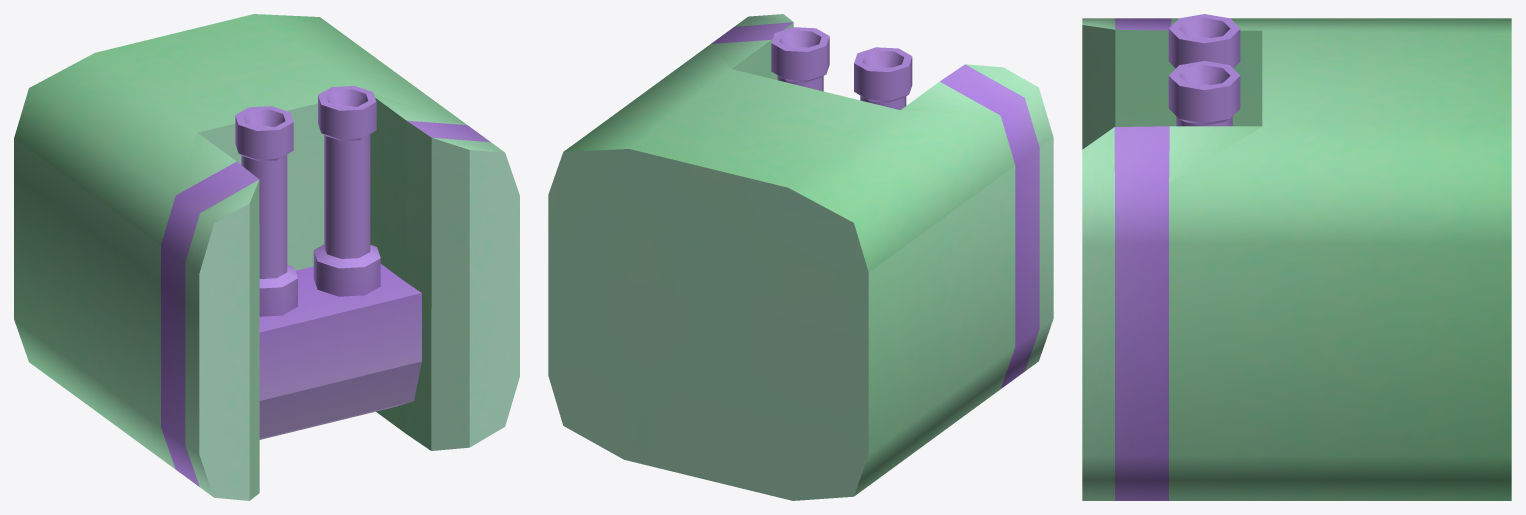
Rendered from Gun 2.fbx.
3 renders of one model, left to right at view 1: azimuth 30°, elevation 25°; view 2: azimuth 150°, elevation 25°; view 3: azimuth 270°, elevation 25°, orthographic. The views are drawn at different scales.
Visible parts, largest first — view 1: Gun 2; view 2: Gun 2; view 3: Gun 2.
Boxes of the visible parts, bbox=[...] form: Gun 2: bbox=[14, 14, 519, 500]; Gun 2: bbox=[548, 14, 1053, 500]; Gun 2: bbox=[1082, 14, 1511, 500].
Bounding box in the file's own units: 100 × 100 × 100.
